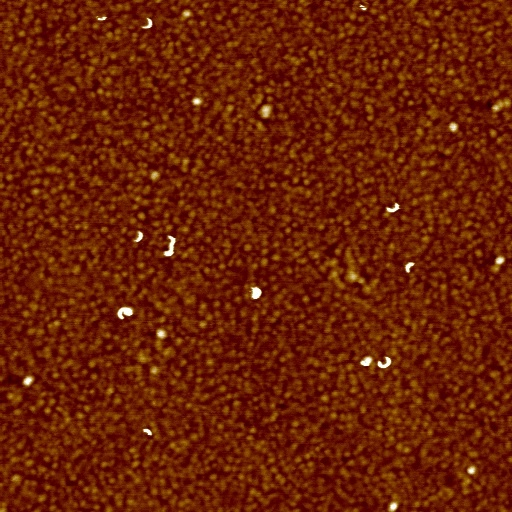-1: (163, 233, 179, 258), (21, 374, 36, 388), (359, 353, 374, 367), (251, 285, 263, 300), (493, 255, 507, 266), (449, 119, 460, 133), (190, 95, 202, 105), (388, 501, 399, 510), (468, 465, 476, 475)
1/4: (131, 230, 146, 245), (404, 259, 417, 274), (141, 426, 154, 438), (94, 13, 108, 24)
2/4: (385, 199, 401, 216), (140, 15, 153, 31)
3/4: (117, 304, 135, 320), (376, 355, 393, 370)
